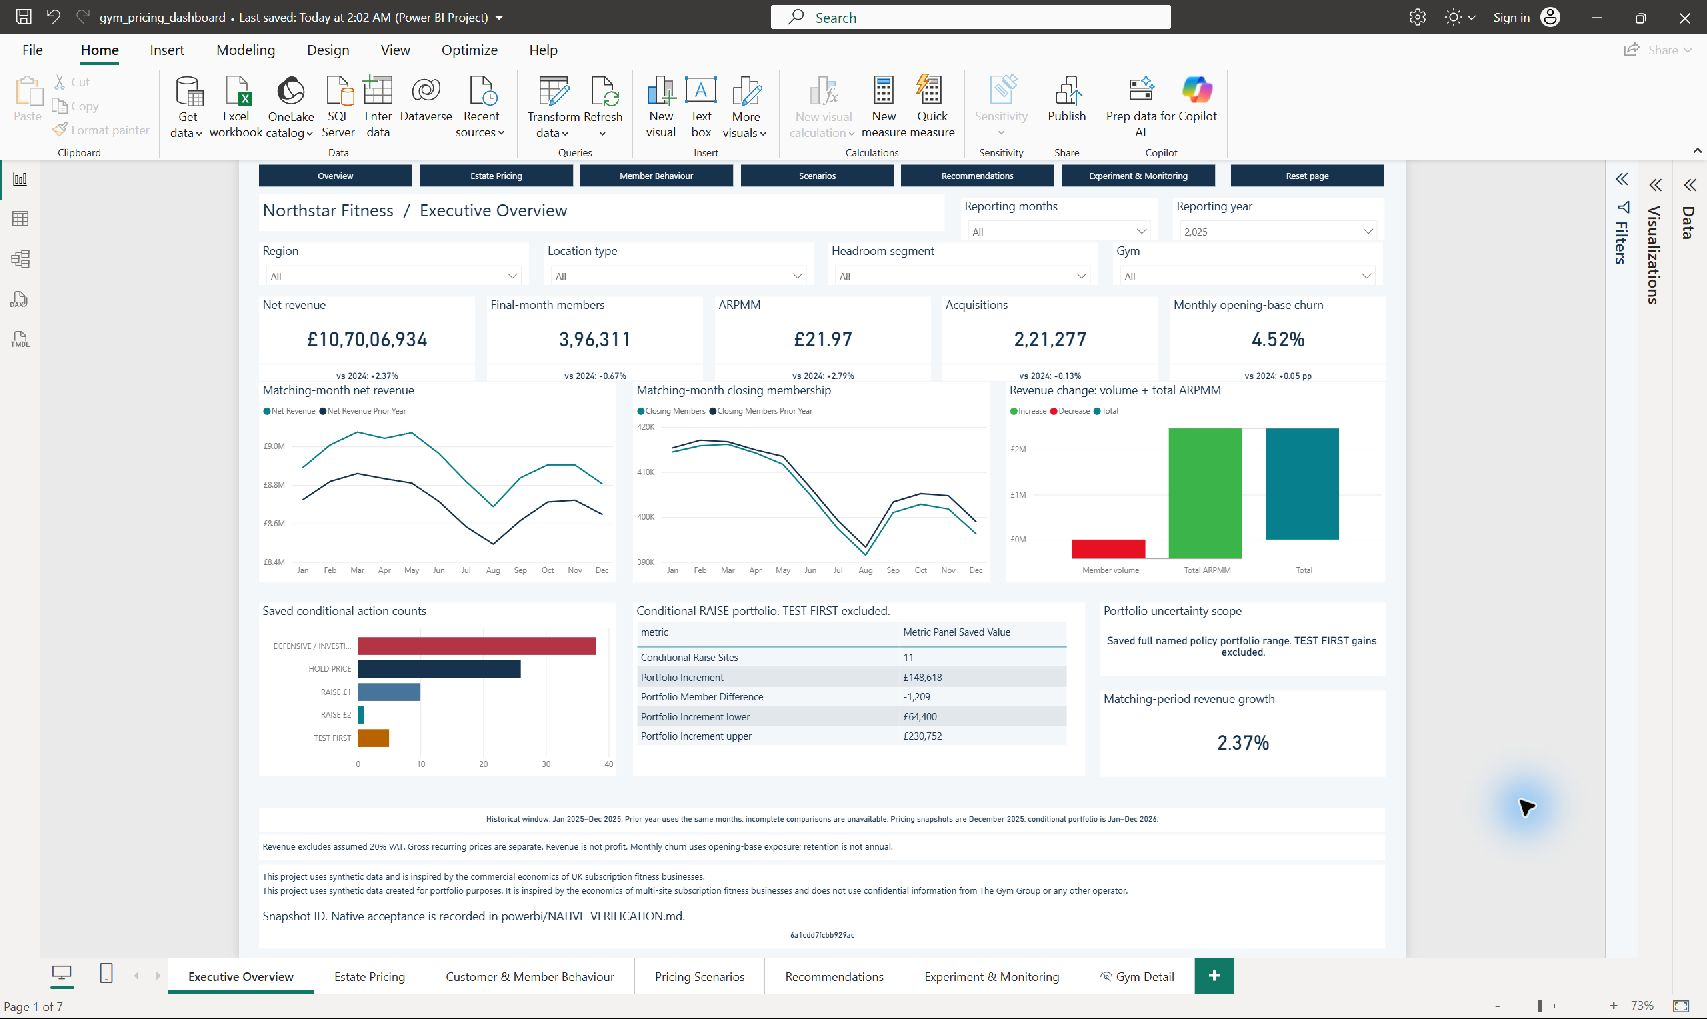

The dashboard page shown, as its layout file describes it:
{"tool":"powerbi","page":{"name":"Executive Overview","canvas":[1600,1095],"ordinal":0},"visuals":[{"type":"card","title":"Net revenue","fields":{"Values":["CommercialMeasures.Net Revenue"]},"box":[28,188,296,91],"z":0},{"type":"card","title":"Final-month members","fields":{"Values":["CommercialMeasures.Closing Members"]},"box":[340,188,296,91],"z":1},{"type":"card","title":"ARPMM","fields":{"Values":["CommercialMeasures.ARPMM"]},"box":[652,188,296,91],"z":2},{"type":"card","title":"Acquisitions","fields":{"Values":["CommercialMeasures.Acquisitions"]},"box":[964,188,296,91],"z":3},{"type":"card","title":"Monthly opening-base churn","fields":{"Values":["CommercialMeasures.Opening-base Churn"]},"box":[1276,188,296,91],"z":4},{"type":"card","fields":{"Values":["CommercialMeasures.Executive Revenue Comparison"]},"box":[28,281,296,22],"z":5},{"type":"card","fields":{"Values":["CommercialMeasures.Executive Members Comparison"]},"box":[340,281,296,22],"z":6},{"type":"card","fields":{"Values":["CommercialMeasures.Executive ARPMM Comparison"]},"box":[652,281,296,22],"z":7},{"type":"card","fields":{"Values":["CommercialMeasures.Executive Acquisition Comparison"]},"box":[964,281,296,22],"z":8},{"type":"card","fields":{"Values":["CommercialMeasures.Executive Churn Comparison"]},"box":[1276,281,296,22],"z":9},{"type":"lineChart","title":"Matching-month net revenue","fields":{"Category":["DimHistoryMonth.month_name"],"Y":["CommercialMeasures.Net Revenue","CommercialMeasures.Net Revenue Prior Year"]},"box":[28,305,490,275],"z":10},{"type":"lineChart","title":"Matching-month closing membership","fields":{"Category":["DimHistoryMonth.month_name"],"Y":["CommercialMeasures.Closing Members","CommercialMeasures.Closing Members Prior Year"]},"box":[540,305,490,275],"z":11},{"type":"waterfallChart","title":"Revenue change: volume + total ARPMM","fields":{"Category":["DimBridge.step"],"Y":["CommercialMeasures.Revenue Bridge"]},"box":[1052,305,520,275],"z":12},{"type":"barChart","title":"Saved conditional action counts","fields":{"Category":["FactRecommendation.action"],"Y":["CommercialMeasures.Recommendation Site Count"]},"box":[28,608,490,238],"z":13},{"type":"tableEx","title":"Conditional RAISE portfolio. TEST FIRST excluded.","fields":{"Values":["DimMetricPanel.metric","CommercialMeasures.Metric Panel Saved Value"]},"box":[540,608,620,238],"z":14},{"type":"card","title":"Portfolio uncertainty scope","fields":{"Values":["CommercialMeasures.Portfolio Uncertainty Scope"]},"box":[1180,608,392,100],"z":15},{"type":"card","title":"Matching-period revenue growth","fields":{"Values":["CommercialMeasures.Net Revenue YoY"]},"box":[1180,728,392,118],"z":16},{"type":"slicer","title":"Region","fields":{"Values":["DimGym.region"]},"box":[28,114,370,58],"z":17},{"type":"slicer","title":"Location type","fields":{"Values":["DimGym.location_type"]},"box":[418,114,370,58],"z":18},{"type":"slicer","title":"Headroom segment","fields":{"Values":["DimGym.segment"]},"box":[808,114,370,58],"z":19},{"type":"slicer","title":"Gym","fields":{"Values":["DimGym.gym_id"]},"box":[1198,114,370,58],"z":20},{"type":"slicer","title":"Reporting year","fields":{"Values":["DimHistoryMonth.year"]},"box":[1280,52,290,58],"z":21},{"type":"slicer","title":"Reporting months","fields":{"Values":["DimHistoryMonth.month_name"]},"box":[990,52,270,58],"z":22},{"type":"textbox","box":[28,47,940,51],"z":23},{"type":"card","fields":{"Values":["CommercialMeasures.Historical Reporting Note"]},"box":[28,889,1544,33],"z":24},{"type":"card","title":"Snapshot ID. Native acceptance is recorded in powerbi/NATIVE_VERIFICATION.md.","fields":{"Values":["CommercialMeasures.Snapshot Version"]},"box":[28,1026,1544,56],"z":25},{"type":"textbox","box":[28,925,1544,35],"z":26},{"type":"textbox","box":[28,966,1544,62],"z":27},{"type":"actionButton","title":"Overview","box":[28,7,210,30],"z":28},{"type":"actionButton","title":"Estate Pricing","box":[248,7,210,30],"z":29},{"type":"actionButton","title":"Member Behaviour","box":[468,7,210,30],"z":30},{"type":"actionButton","title":"Scenarios","box":[688,7,210,30],"z":31},{"type":"actionButton","title":"Recommendations","box":[908,7,210,30],"z":32},{"type":"actionButton","title":"Experiment & Monitoring","box":[1128,7,210,30],"z":33},{"type":"actionButton","title":"Reset page","box":[1360,7,210,30],"z":34}]}

Visuals, with their boxes on the page's 1600x1095 design canvas (x1, y1, x2, y2). These are canvas units, not pixel positions in the 1707x1019 screenshot, which may show the page scaled, cropped or inside an application window:
"Net revenue" card: bbox=[28, 188, 324, 279]
"Final-month members" card: bbox=[340, 188, 636, 279]
"ARPMM" card: bbox=[652, 188, 948, 279]
"Acquisitions" card: bbox=[964, 188, 1260, 279]
"Monthly opening-base churn" card: bbox=[1276, 188, 1572, 279]
card - CommercialMeasures.Executive Revenue Comparison: bbox=[28, 281, 324, 303]
card - CommercialMeasures.Executive Members Comparison: bbox=[340, 281, 636, 303]
card - CommercialMeasures.Executive ARPMM Comparison: bbox=[652, 281, 948, 303]
card - CommercialMeasures.Executive Acquisition Comparison: bbox=[964, 281, 1260, 303]
card - CommercialMeasures.Executive Churn Comparison: bbox=[1276, 281, 1572, 303]
"Matching-month net revenue" lineChart: bbox=[28, 305, 518, 580]
"Matching-month closing membership" lineChart: bbox=[540, 305, 1030, 580]
"Revenue change: volume + total ARPMM" waterfallChart: bbox=[1052, 305, 1572, 580]
"Saved conditional action counts" barChart: bbox=[28, 608, 518, 846]
"Conditional RAISE portfolio. TEST FIRST excluded." tableEx: bbox=[540, 608, 1160, 846]
"Portfolio uncertainty scope" card: bbox=[1180, 608, 1572, 708]
"Matching-period revenue growth" card: bbox=[1180, 728, 1572, 846]
"Region" slicer: bbox=[28, 114, 398, 172]
"Location type" slicer: bbox=[418, 114, 788, 172]
"Headroom segment" slicer: bbox=[808, 114, 1178, 172]
"Gym" slicer: bbox=[1198, 114, 1568, 172]
"Reporting year" slicer: bbox=[1280, 52, 1570, 110]
"Reporting months" slicer: bbox=[990, 52, 1260, 110]
textbox: bbox=[28, 47, 968, 98]
card - CommercialMeasures.Historical Reporting Note: bbox=[28, 889, 1572, 922]
"Snapshot ID. Native acceptance is recorded in powerbi/NATIVE_VERIFICATION.md." card: bbox=[28, 1026, 1572, 1082]
textbox: bbox=[28, 925, 1572, 960]
textbox: bbox=[28, 966, 1572, 1028]
"Overview" actionButton: bbox=[28, 7, 238, 37]
"Estate Pricing" actionButton: bbox=[248, 7, 458, 37]
"Member Behaviour" actionButton: bbox=[468, 7, 678, 37]
"Scenarios" actionButton: bbox=[688, 7, 898, 37]
"Recommendations" actionButton: bbox=[908, 7, 1118, 37]
"Experiment & Monitoring" actionButton: bbox=[1128, 7, 1338, 37]
"Reset page" actionButton: bbox=[1360, 7, 1570, 37]
